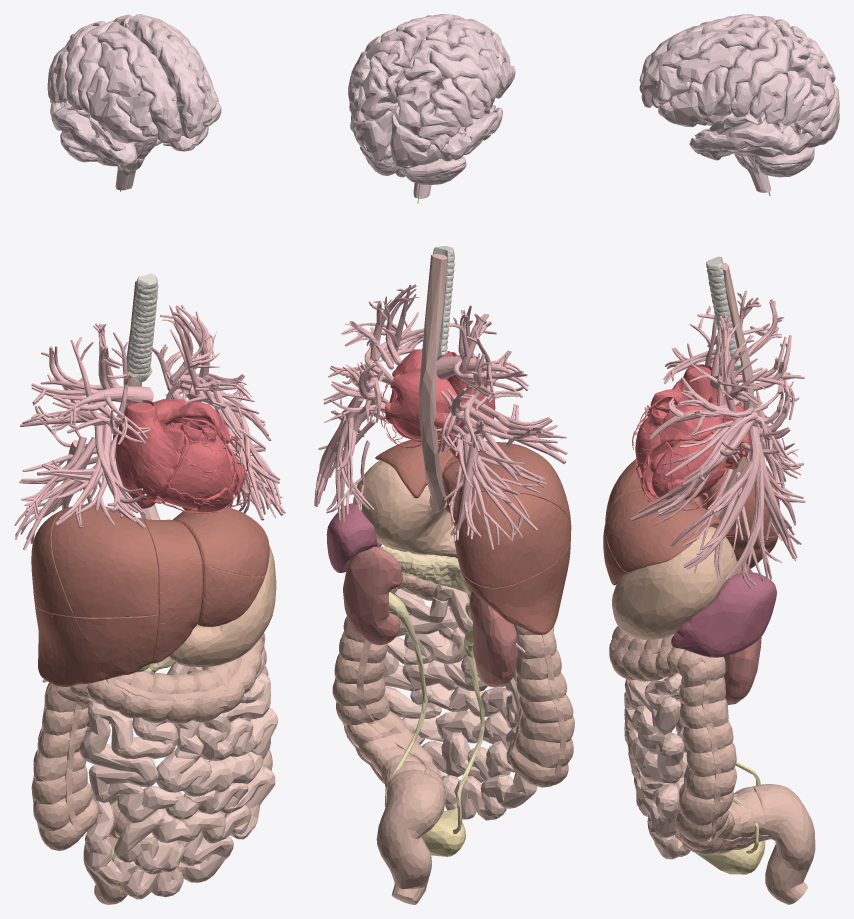
File: organs.glb
3 renders of one model, left to right at view 1: azimuth 30°, elevation 25°; view 2: azimuth 150°, elevation 25°; view 3: azimuth 270°, elevation 25°, orthographic. The views are drawn at different scales.
Parts seen in each view (by area): view 1: Liver_FMA7197, Small_intestine_FMA7200, Brain_FMA50801, Large_intestine_FMA7201, Right_lung_FMA7309, Heart_FMA7088, Left_lung_FMA7310, Stomach_FMA7148, Trachea_FMA7394; view 2: Large_intestine_FMA7201, Brain_FMA50801, Small_intestine_FMA7200, Liver_FMA7197, Right_lung_FMA7309, Left_lung_FMA7310, Stomach_FMA7148, Left_kidney_FMA7205, Esophagus_FMA7131, Heart_FMA7088, Right_kidney_FMA7204, Spleen_FMA7196 (+5 smaller); view 3: Brain_FMA50801, Large_intestine_FMA7201, Left_lung_FMA7310, Small_intestine_FMA7200, Liver_FMA7197, Stomach_FMA7148, Heart_FMA7088, Spleen_FMA7196, Right_lung_FMA7309, Left_kidney_FMA7205, Esophagus_FMA7131, Trachea_FMA7394 (+1 smaller).
Part boxes in pixels (bbox=[...]): Liver_FMA7197: bbox=[31, 504, 269, 686]; Small_intestine_FMA7200: bbox=[79, 656, 277, 899]; Brain_FMA50801: bbox=[47, 14, 221, 190]; Large_intestine_FMA7201: bbox=[31, 633, 272, 904]; Right_lung_FMA7309: bbox=[14, 323, 153, 682]; Heart_FMA7088: bbox=[113, 398, 253, 513]; Left_lung_FMA7310: bbox=[152, 305, 285, 520]; Stomach_FMA7148: bbox=[168, 545, 276, 666]; Trachea_FMA7394: bbox=[127, 273, 158, 382]; Large_intestine_FMA7201: bbox=[332, 572, 574, 904]; Brain_FMA50801: bbox=[348, 14, 515, 198]; Small_intestine_FMA7200: bbox=[383, 585, 537, 820]; Liver_FMA7197: bbox=[375, 440, 571, 634]; Right_lung_FMA7309: bbox=[436, 305, 567, 653]; Left_lung_FMA7310: bbox=[314, 284, 423, 522]; Stomach_FMA7148: bbox=[353, 460, 457, 558]; Left_kidney_FMA7205: bbox=[343, 546, 402, 645]; Esophagus_FMA7131: bbox=[418, 254, 447, 512]; Heart_FMA7088: bbox=[380, 349, 495, 458]; Right_kidney_FMA7204: bbox=[469, 591, 518, 686]; Spleen_FMA7196: bbox=[326, 503, 381, 572]; Brain_FMA50801: bbox=[639, 14, 839, 192]; Large_intestine_FMA7201: bbox=[609, 626, 815, 904]; Left_lung_FMA7310: bbox=[630, 313, 805, 588]; Small_intestine_FMA7200: bbox=[624, 673, 690, 859]; Liver_FMA7197: bbox=[603, 452, 779, 585]; Stomach_FMA7148: bbox=[612, 526, 737, 640]; Heart_FMA7088: bbox=[632, 364, 749, 510]; Spleen_FMA7196: bbox=[671, 572, 776, 657]; Right_lung_FMA7309: bbox=[635, 290, 804, 500]; Left_kidney_FMA7205: bbox=[724, 636, 761, 704]; Esophagus_FMA7131: bbox=[714, 263, 753, 518]; Trachea_FMA7394: bbox=[706, 256, 740, 371].
Size of the model in its own units: 0.2522 by 0.8731 by 0.2127.
